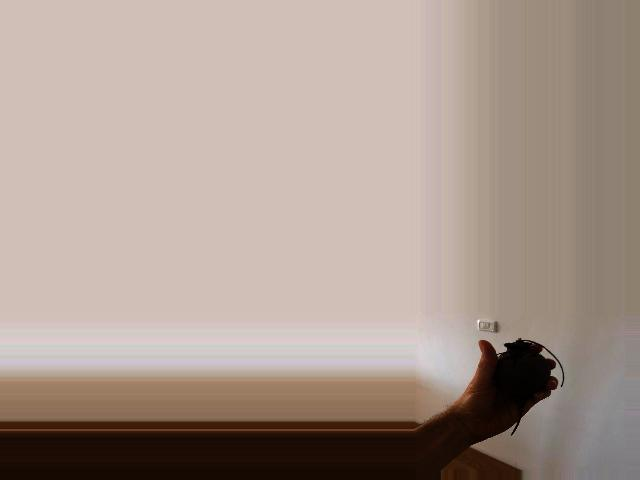beet: (496, 338, 565, 435)
